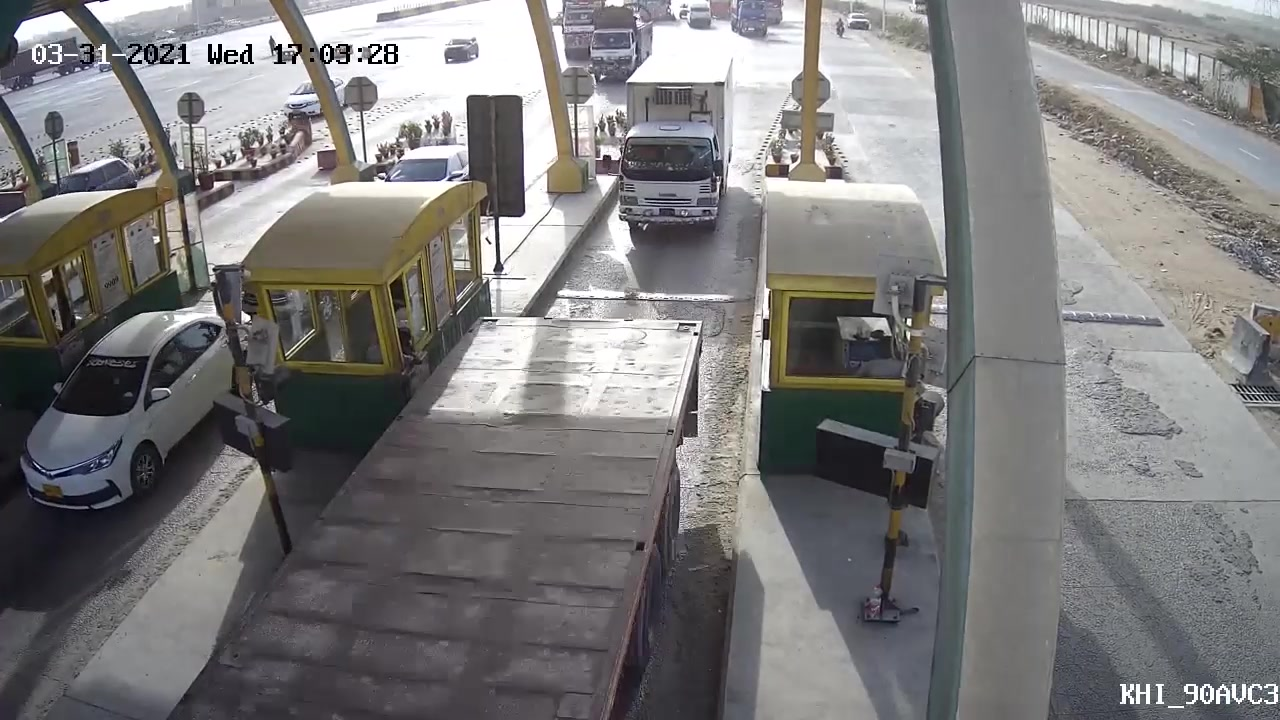F5: (616, 42, 741, 236)
